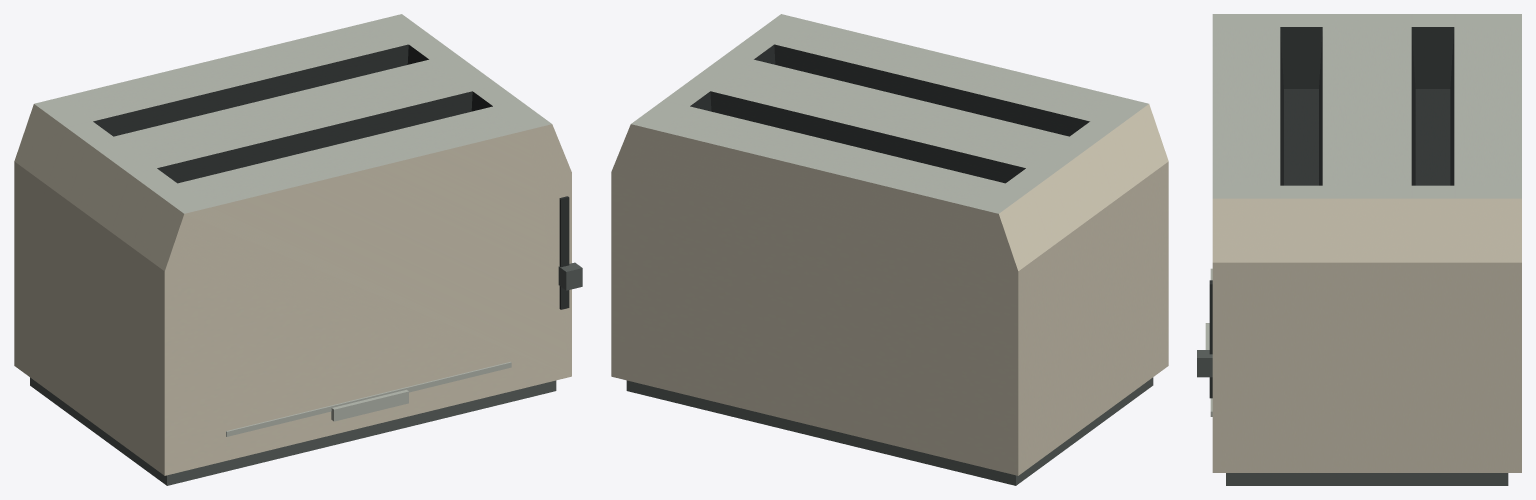
Rendered from toaster.glb.
3 renders of one model, left to right at view 1: azimuth 30°, elevation 25°; view 2: azimuth 150°, elevation 25°; view 3: azimuth 270°, elevation 25°, orthographic. The views are drawn at different scales.
Parts seen in each view (by area): view 1: home_toaster; view 2: home_toaster; view 3: home_toaster.
Boxes of the visible parts, left/top/right/bottom form: home_toaster: left=14, top=14, right=582, bottom=485; home_toaster: left=611, top=14, right=1168, bottom=485; home_toaster: left=1197, top=14, right=1521, bottom=485.
Size of the model in its own units: 0.252 by 0.161 by 0.168.
1 material, 1 textured.
